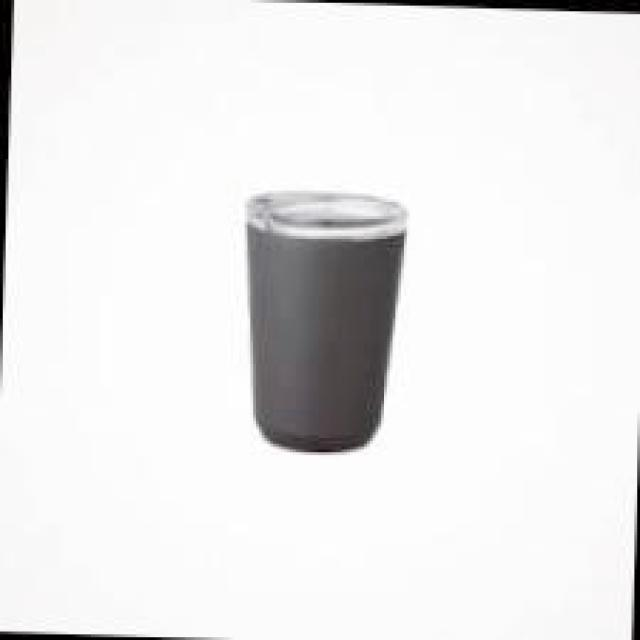bottle: (233, 186, 407, 454)
